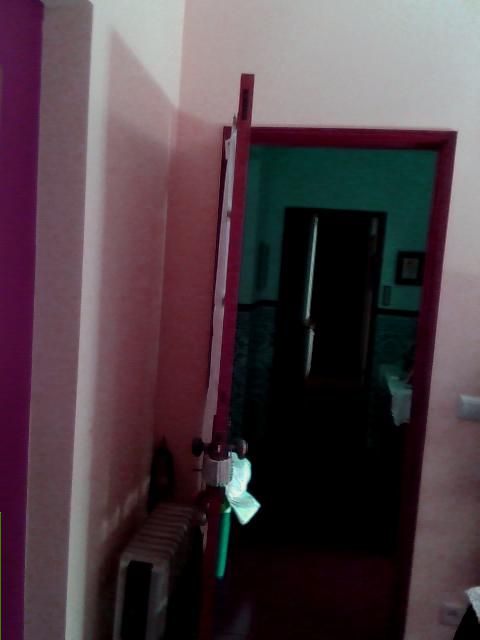open_door: (188, 121, 456, 639)
